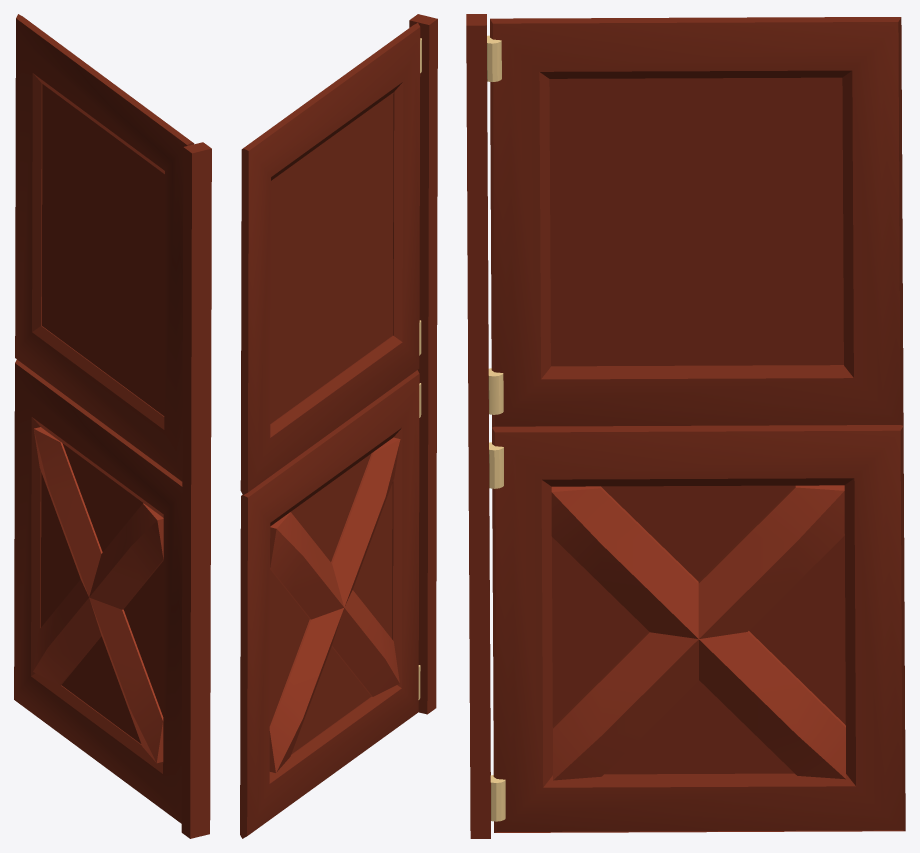
Rendered from Door.fbx.
The picture shows the model from 3 angles, left to right: view 1: azimuth 30°, elevation 25°; view 2: azimuth 150°, elevation 25°; view 3: azimuth 270°, elevation 25°; orthographic projection. The views are drawn at different scales.
Parts seen in each view (by area): view 1: Door, Door.001, inlay (lower); view 2: Door.001, Door, inlay (lower); view 3: Door.001, Door, inlay (lower).
Boxes of the visible parts, x1,y1,x2,y2 form: Door: [14, 142, 211, 838]; Door.001: [15, 14, 194, 481]; inlay (lower): [33, 427, 163, 763]; Door.001: [240, 23, 420, 494]; Door: [240, 14, 437, 838]; inlay (lower): [269, 437, 400, 772]; Door.001: [490, 17, 903, 427]; Door: [466, 14, 905, 838]; inlay (lower): [551, 485, 845, 780].
Bounding box in the file's own units: 31.65 × 662 × 323.
